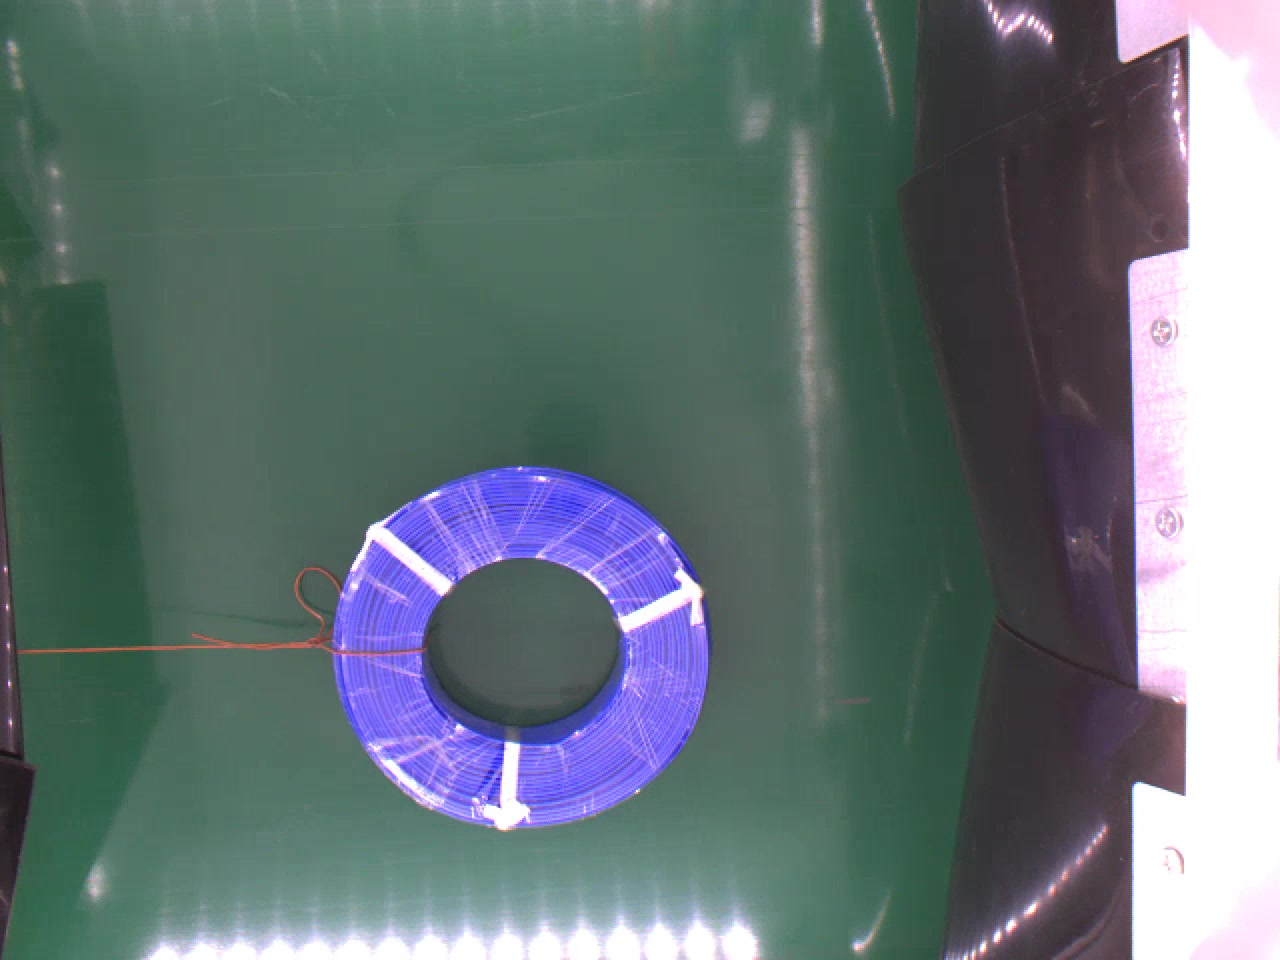blue: (326, 456, 720, 828)
